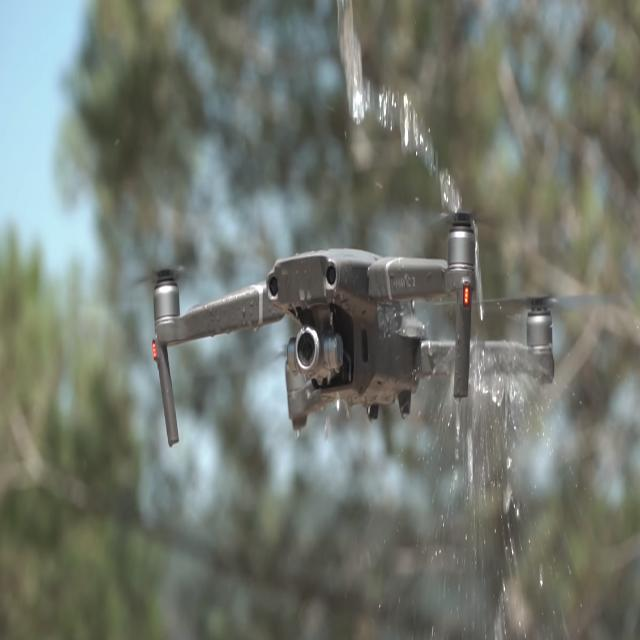drone: (78, 164, 611, 474)
